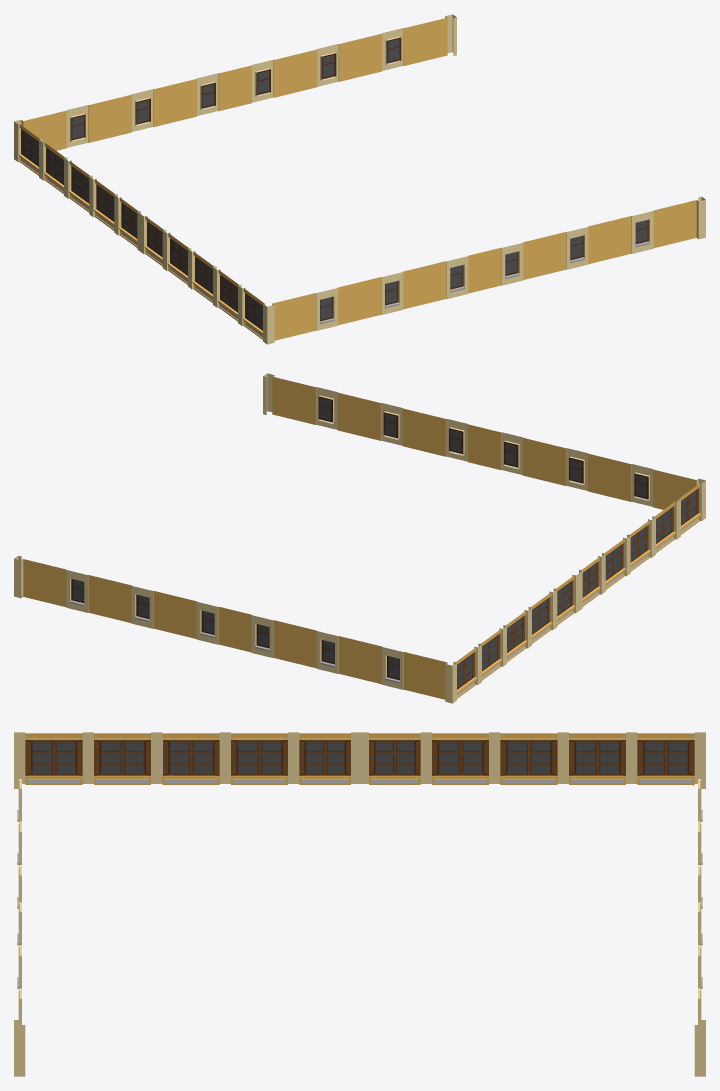
The model's file is BuildingBig2_2.fbx.
3 renders of one model, top to bottom at view 1: azimuth 30°, elevation 25°; view 2: azimuth 150°, elevation 25°; view 3: azimuth 270°, elevation 25°, orthographic. The views are drawn at different scales.
Visible parts, largest first — view 1: BuildingBig2_2; view 2: BuildingBig2_2; view 3: BuildingBig2_2.
Boxes of the visible parts, bbox=[...] form: BuildingBig2_2: bbox=[14, 14, 705, 344]; BuildingBig2_2: bbox=[14, 373, 705, 703]; BuildingBig2_2: bbox=[14, 732, 705, 1076].
Bounding box in the file's own units: 6060 × 500 × 6060.
